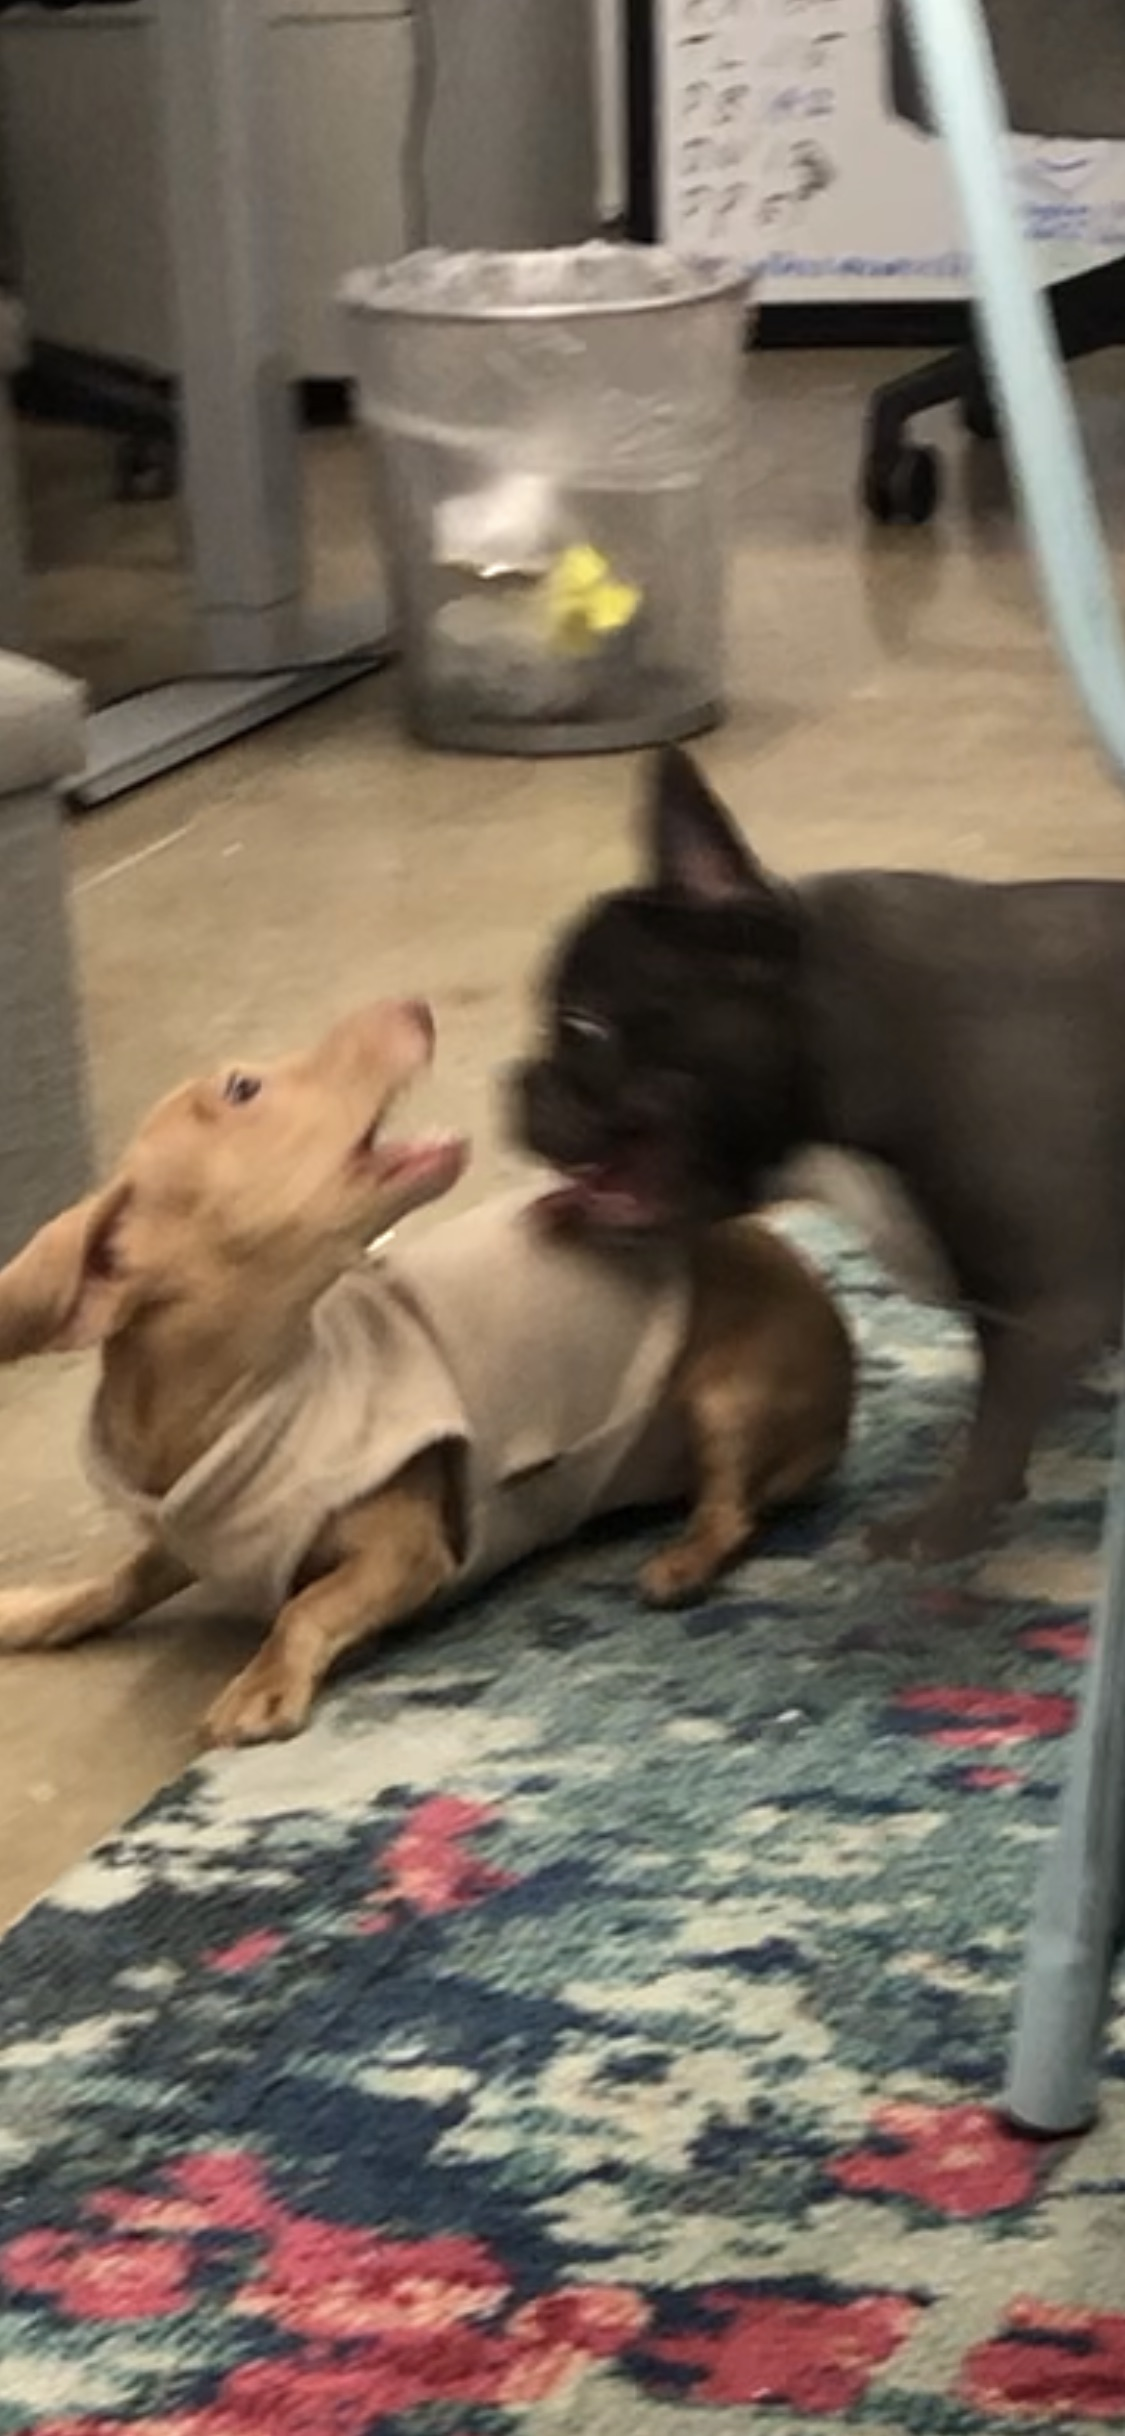lucy: (496, 744, 1125, 1563)
